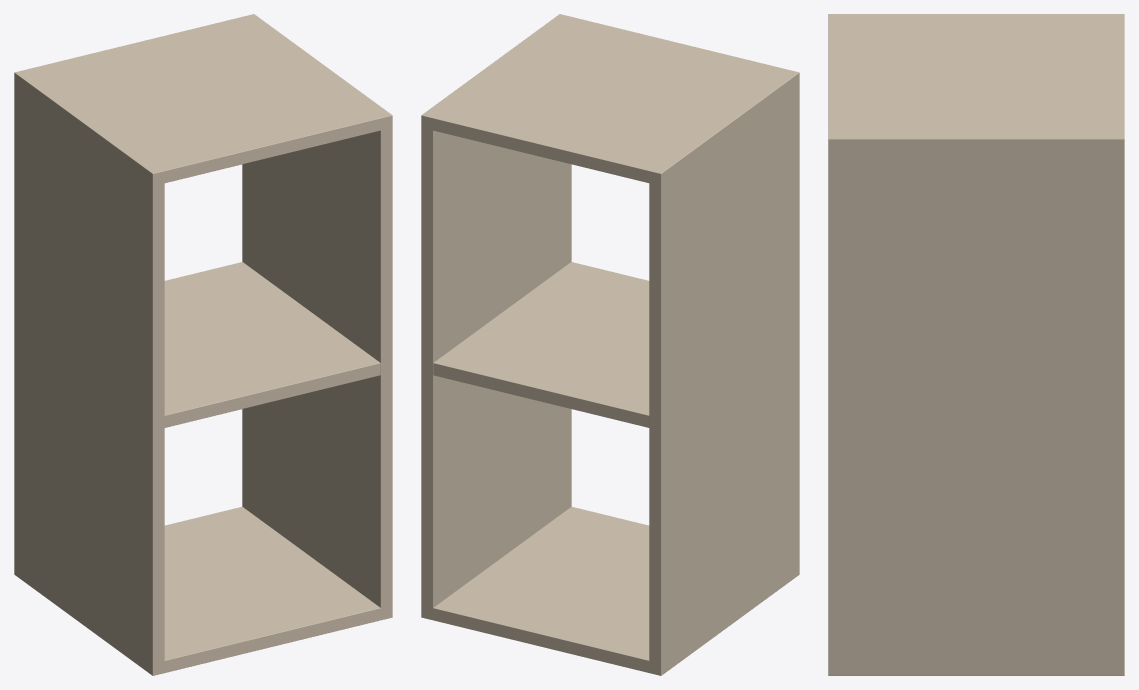
File: MOD-1X2-S-O-AR.glb
3 views of the same model, side by side, from view 1: azimuth 30°, elevation 25°; view 2: azimuth 150°, elevation 25°; view 3: azimuth 270°, elevation 25° (orthographic). The views are drawn at different scales.
Size of the model in its own units: 360 by 720 by 360.
